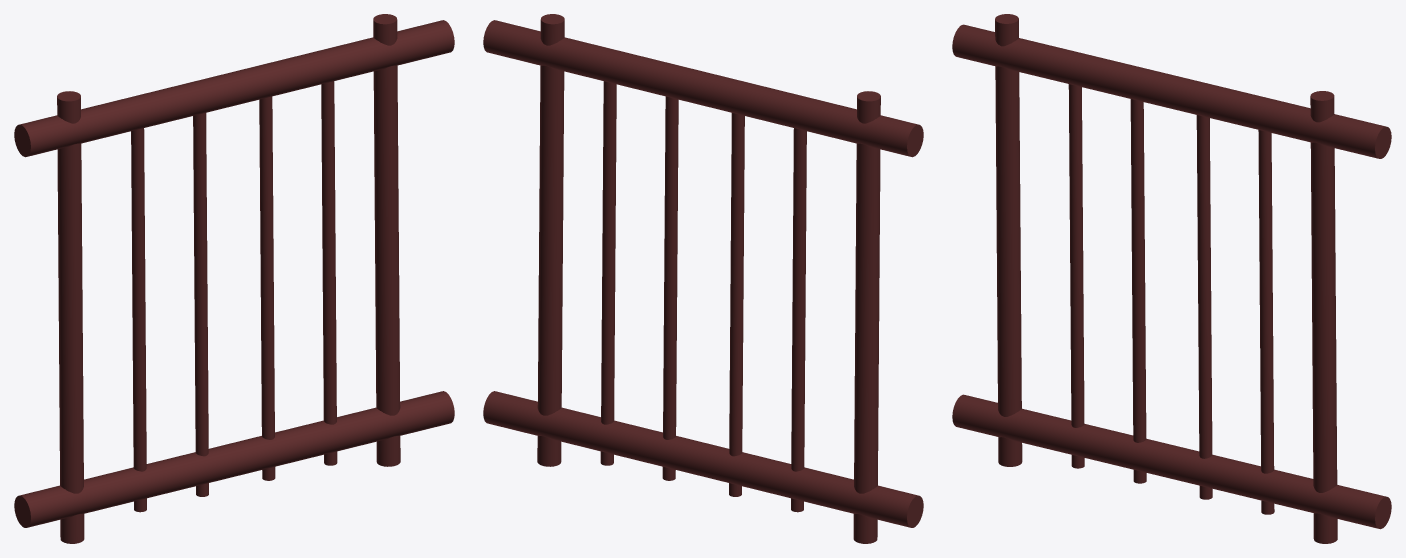
Rendered from Reja.obj.
The picture shows the model from 3 angles, left to right: view 1: azimuth 30°, elevation 25°; view 2: azimuth 150°, elevation 25°; view 3: azimuth 330°, elevation 25°; orthographic projection.
Visible parts, largest first — view 1: pasted__pasted__pCylinder1; view 2: pasted__pasted__pCylinder1; view 3: pasted__pasted__pCylinder1.
Boxes of the visible parts, <box> form: pasted__pasted__pCylinder1: <box>14,14,454,543</box>; pasted__pasted__pCylinder1: <box>483,14,923,543</box>; pasted__pasted__pCylinder1: <box>952,14,1391,543</box>.
Size of the model in its own units: 13.96 by 13.96 by 0.9563.
1 material, 1 textured.
